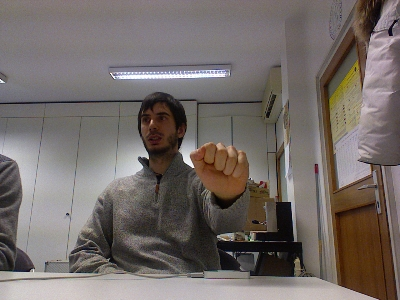石头: (188, 138, 248, 198)
